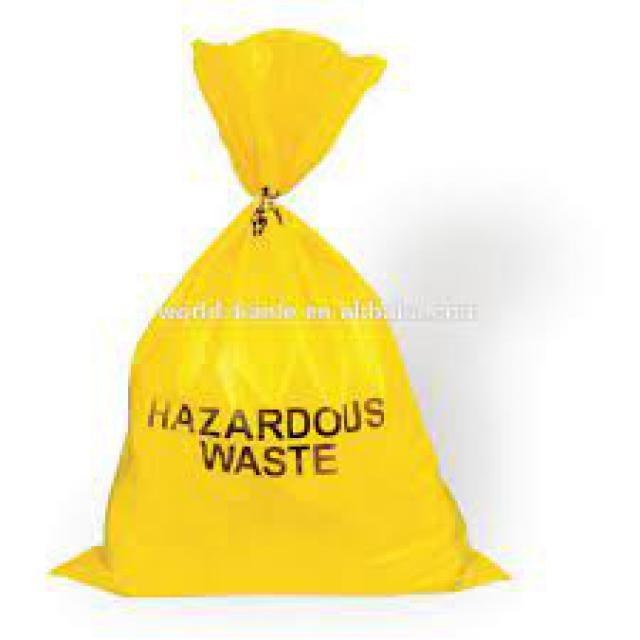waste: (49, 28, 516, 594)
